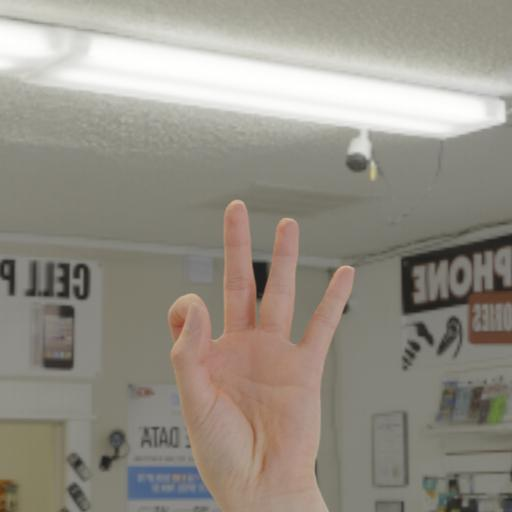F: (164, 195, 361, 512)
